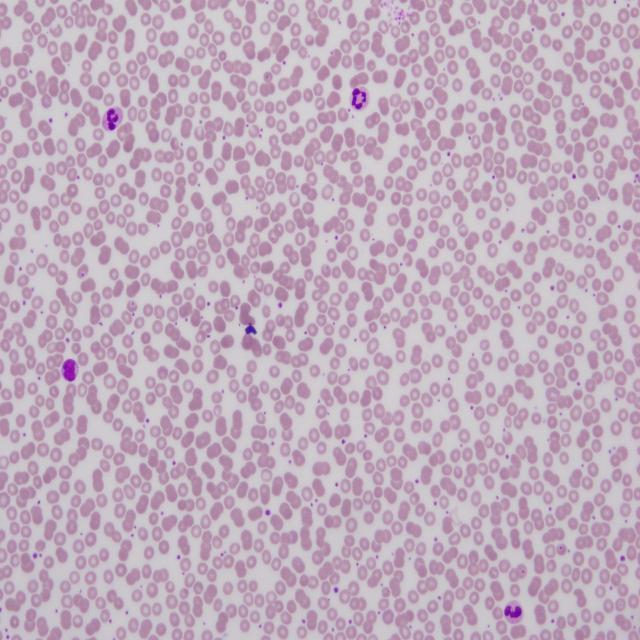cell: (102, 107, 122, 131), (351, 86, 369, 110)
